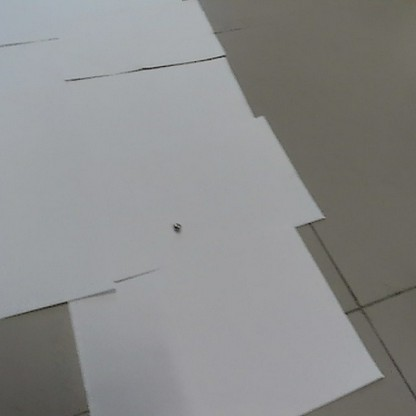ironball: (172, 219, 182, 233)
